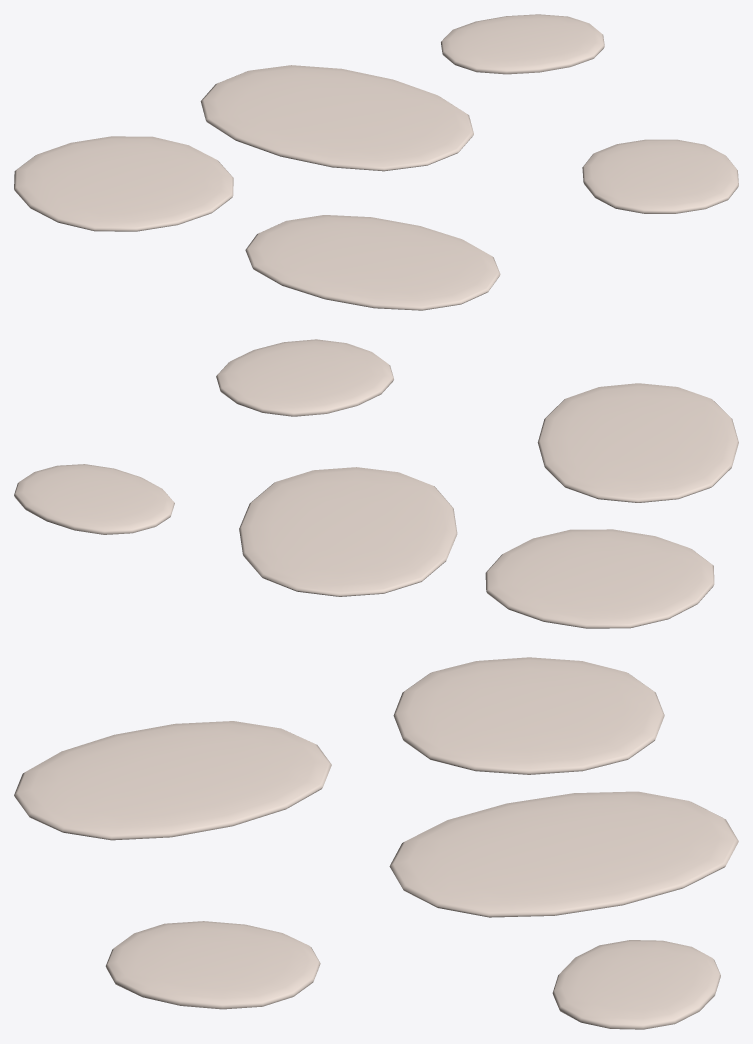
Rendered from Path_2.glb.
The picture shows the model from 3 angles, top to bottom: view 1: azimuth 30°, elevation 25°; view 2: azimuth 150°, elevation 25°; view 3: azimuth 270°, elevation 25°; orthographic projection. The views are drawn at different scales.
Visible parts, largest first — view 1: Path_2; view 2: Path_2; view 3: Path_2.
Boxes of the visible parts, x1,y1,x2,y2 form: Path_2: [14, 14, 738, 310]; Path_2: [14, 339, 738, 628]; Path_2: [14, 657, 738, 1029].
Size of the model in its own units: 1.44 by 0.0171 by 1.2.
1 material, 1 textured.
